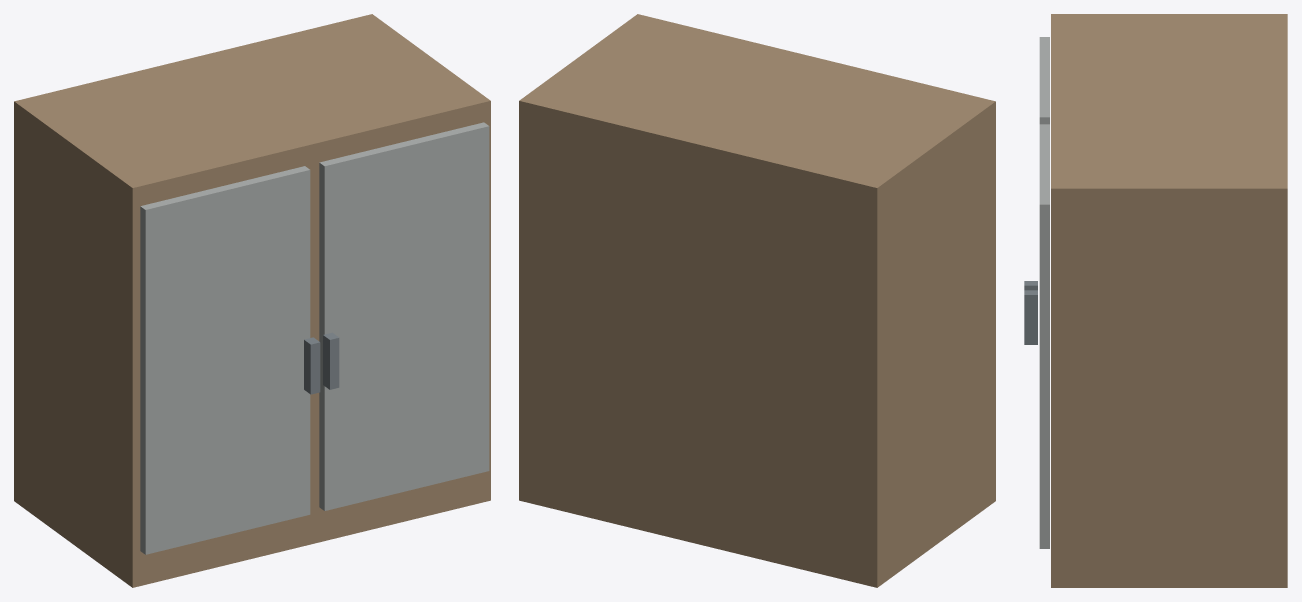
The model's file is STO-002.glb.
3 views of the same model, side by side, from view 1: azimuth 30°, elevation 25°; view 2: azimuth 150°, elevation 25°; view 3: azimuth 270°, elevation 25° (orthographic).
Visible parts, largest first — view 1: 000_Cabinet_body, 001_Cabinet_door_L, 002_Cabinet_door_R, 005_Door_pull, 006_Door_pull; view 2: 000_Cabinet_body; view 3: 000_Cabinet_body, 002_Cabinet_door_R, 001_Cabinet_door_L, 006_Door_pull.
Boxes of the visible parts, bbox=[...] form: 000_Cabinet_body: bbox=[14, 14, 490, 587]; 001_Cabinet_door_L: bbox=[140, 166, 310, 554]; 002_Cabinet_door_R: bbox=[319, 122, 489, 510]; 005_Door_pull: bbox=[304, 337, 320, 394]; 006_Door_pull: bbox=[323, 332, 339, 389]; 000_Cabinet_body: bbox=[519, 14, 995, 587]; 000_Cabinet_body: bbox=[1051, 14, 1287, 587]; 002_Cabinet_door_R: bbox=[1039, 124, 1049, 548]; 001_Cabinet_door_L: bbox=[1039, 37, 1049, 124]; 006_Door_pull: bbox=[1024, 290, 1037, 344].
Bounding box in the file's own units: 0.75 × 0.8 × 0.4785.
